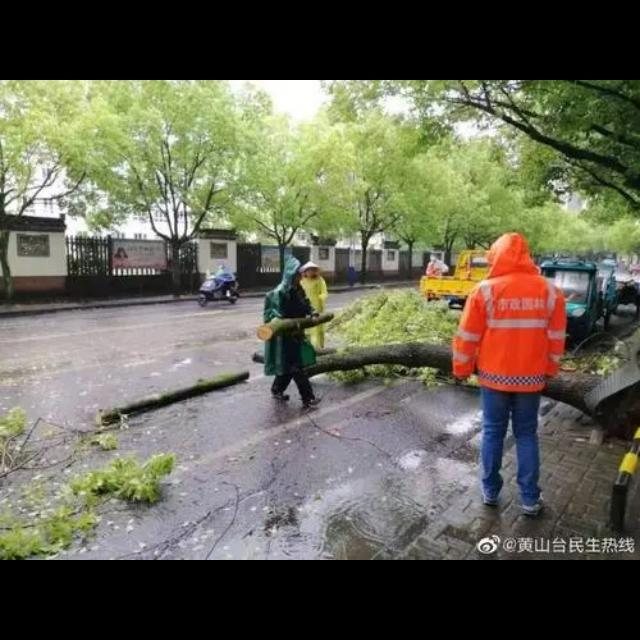fallen_tree: (293, 282, 621, 436)
